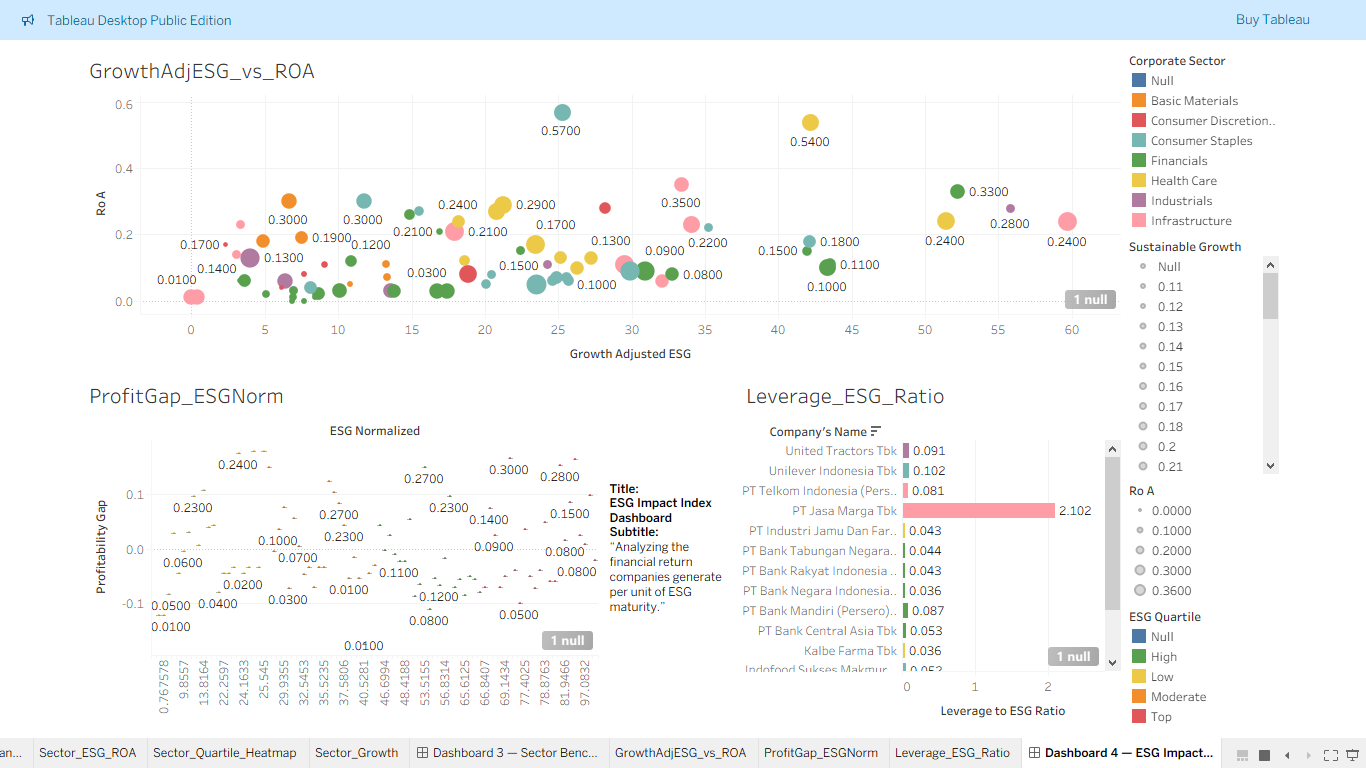

This screenshot's page, from the dashboard's own definition file:
{"tool":"tableau","page":{"name":"Dashboard 4 — ESG Impact Index","canvas":[1000,1000],"units":"permille","ordinal":3},"visuals":[{"type":"worksheet","title":"GrowthAdjESG_vs_ROA","mark":"Circle","rows":["RoA"],"cols":["Growth_Adjusted_ESG"],"box":[7,14.3,845.5,462.5]},{"type":"legend","title":"GrowthAdjESG_vs_ROA","param":"[federated.0hu7oe619kb1w21domjt50td3igt].[none:Corporate Sector:nk]","box":[852.5,14.3,140.5,260.7]},{"type":"legend","title":"GrowthAdjESG_vs_ROA","param":"[federated.0hu7oe619kb1w21domjt50td3igt].[none:Sustainable Growth:ok]","box":[852.5,275,140.5,260.7]},{"type":"worksheet","title":"ProfitGap_ESGNorm","mark":"Circle","rows":["Profitability_Gap"],"cols":["ESG_Normalized"],"box":[7,476.8,422.7,508.9]},{"type":"text","box":[429.8,476.8,109.3,508.9]},{"type":"worksheet","title":"Leverage_ESG_Ratio","mark":"Automatic","rows":["Company's Name"],"cols":["Leverage_to_ESG_Ratio"],"box":[539.1,476.8,313.4,508.9]},{"type":"legend","title":"ProfitGap_ESGNorm","param":"[federated.0hu7oe619kb1w21domjt50td3igt].[sum:RoA:qk]","box":[852.5,535.7,140.5,225]},{"type":"legend","title":"ProfitGap_ESGNorm","param":"[federated.0hu7oe619kb1w21domjt50td3igt].[none:ESG_Quartile:ok]","box":[852.5,760.7,140.5,225]}]}

Visuals, with their boxes on the dashboard's canvas, which has no fixed pixel size, in thousandths of its width and height (x1, y1, x2, y2). These are canvas units, not pixel positions in the 1366x768 screenshot, which may show the page scaled, cropped or inside an application window:
"GrowthAdjESG_vs_ROA" worksheet (Circle marks): (7,14,852,477)
"GrowthAdjESG_vs_ROA" legend: (852,14,993,275)
"GrowthAdjESG_vs_ROA" legend: (852,275,993,536)
"ProfitGap_ESGNorm" worksheet (Circle marks): (7,477,430,986)
text: (430,477,539,986)
"Leverage_ESG_Ratio" worksheet: (539,477,852,986)
"ProfitGap_ESGNorm" legend: (852,536,993,761)
"ProfitGap_ESGNorm" legend: (852,761,993,986)
